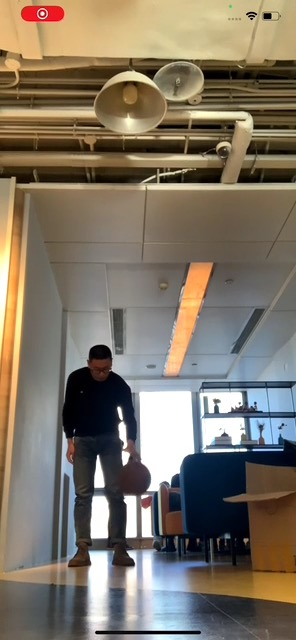ball: (118, 461, 151, 495)
